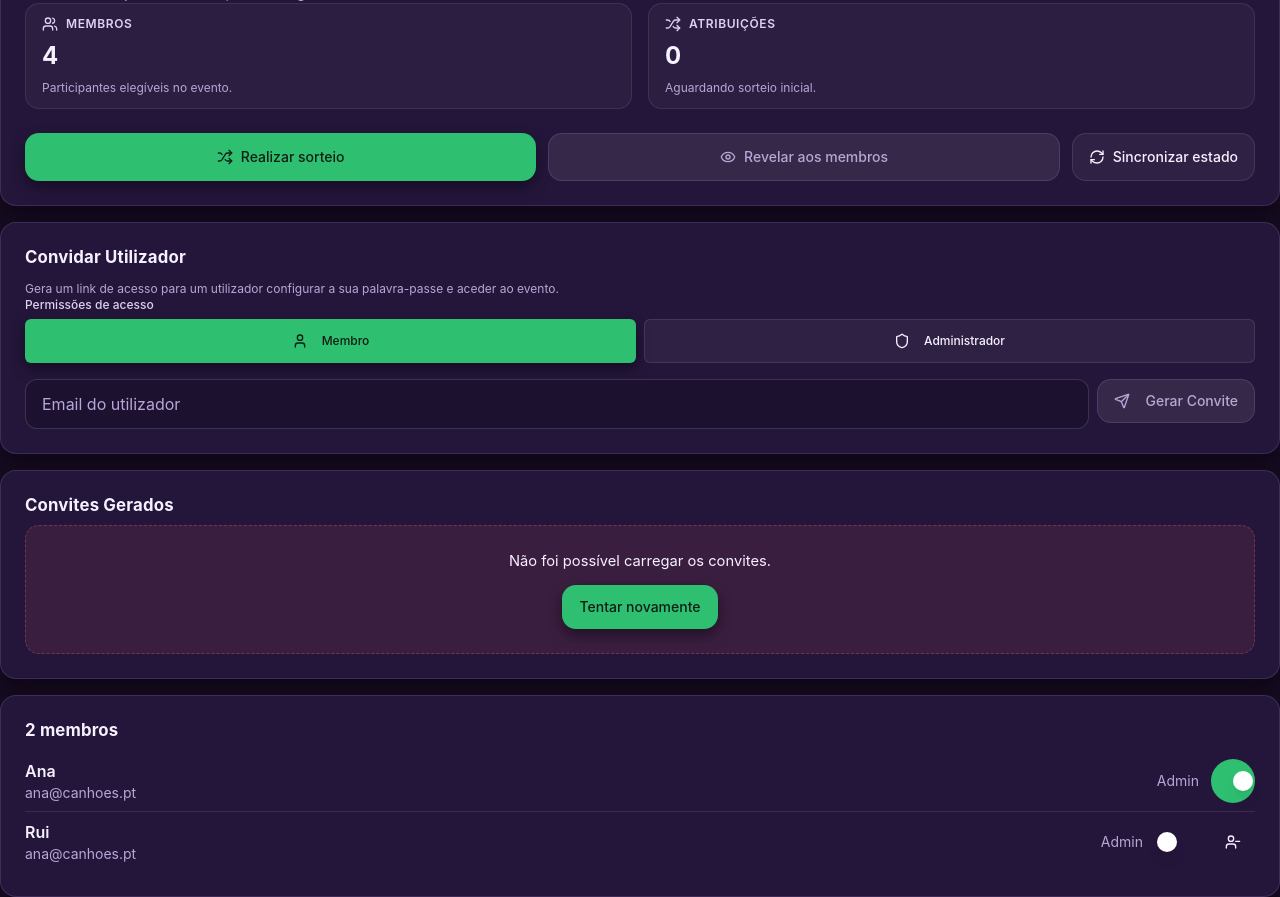
Test: CanhoesAdminModule — members › lists members and toggles another member's admin role
(page scrolled)
Check: the text "Rui" is shown, box top-left (25, 822), bottom-right (49, 842)
Check: the text "Aguardando sorteio inicial." is shown, box top-left (665, 80), bottom-right (816, 94)
Click the switch named "Admin: Rui". click: (1177, 842)
box: top-left (1155, 820), bottom-right (1199, 864)
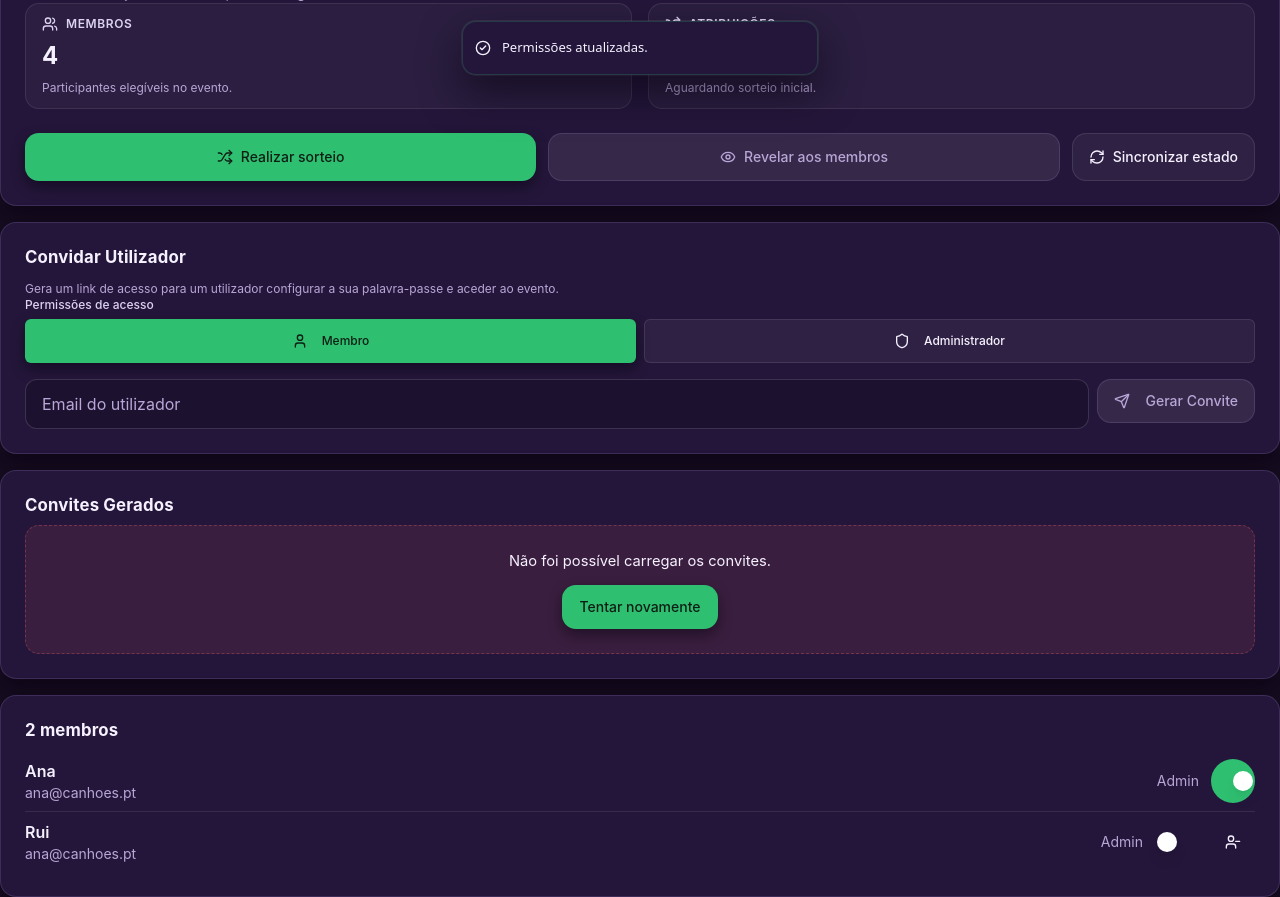
Check: the text "Permissões atualizadas." is shown, box top-left (502, 38), bottom-right (648, 58)
